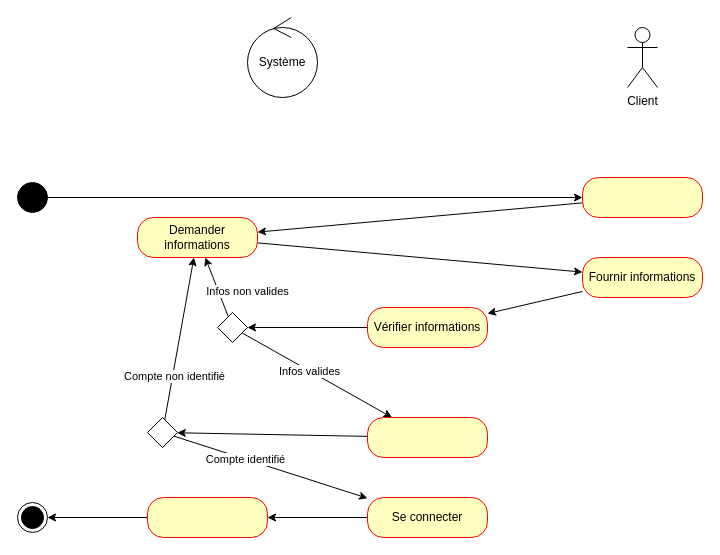
This 720x555 diagram has some shape labels left out. The centre of each missing label's shape, as x and y in pixels:
Identifier compte: (x=427, y=437)
Signal receipt Client sélectionne: (x=642, y=197)
Signal sending Emettre un AR: (x=207, y=517)
